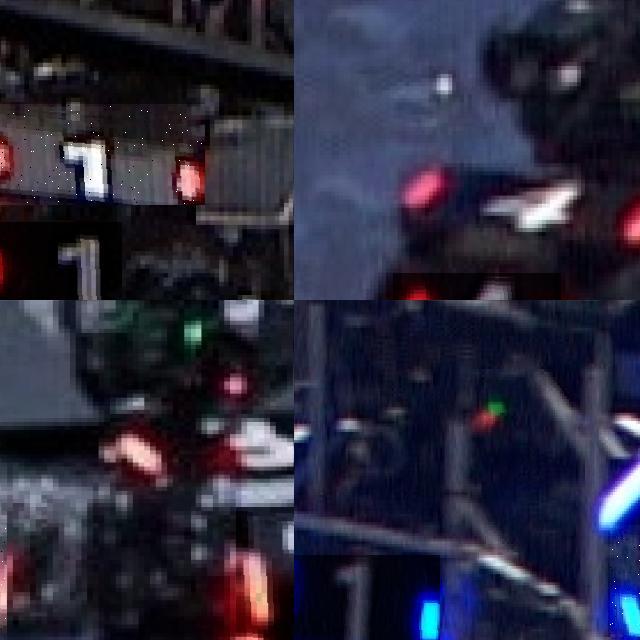B1: (294, 555, 439, 640), (610, 525, 640, 637)
R1: (0, 104, 205, 205), (0, 222, 121, 300)
R3: (132, 406, 294, 479), (235, 507, 294, 640)
R4: (393, 272, 561, 300)
